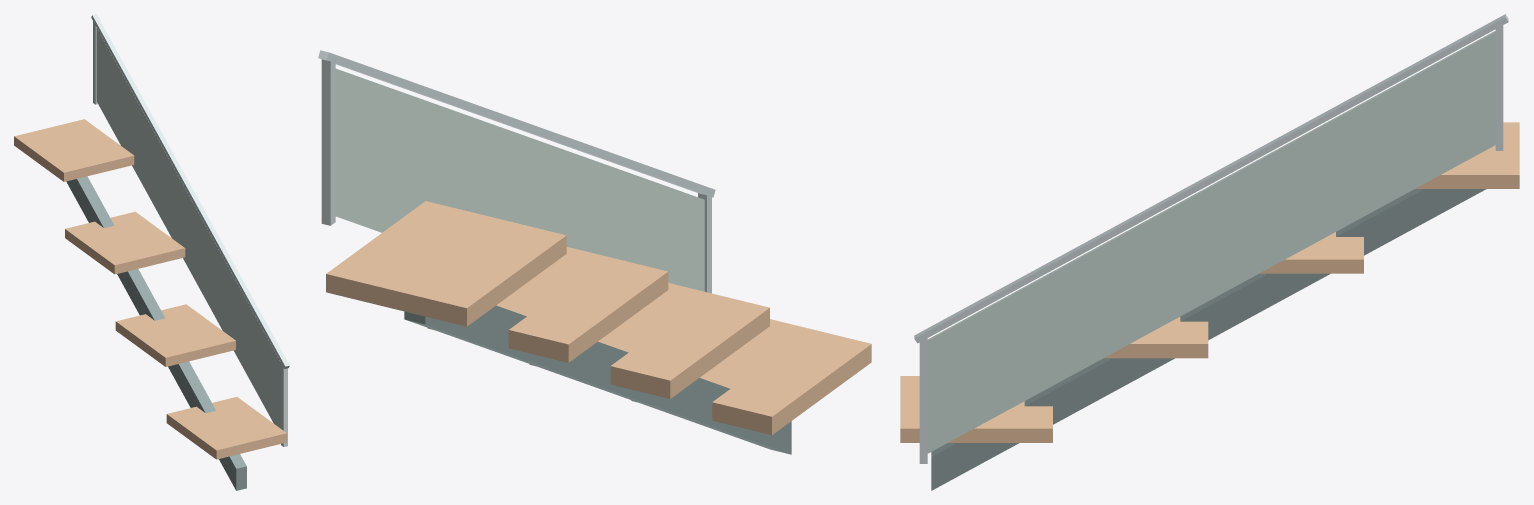
Rendered from stairFloating.glb.
The picture shows the model from 3 angles, left to right: view 1: azimuth 30°, elevation 25°; view 2: azimuth 150°, elevation 25°; view 3: azimuth 270°, elevation 25°; orthographic projection. The views are drawn at different scales.
Parts seen in each view (by area): view 1: stairFloating; view 2: stairFloating; view 3: stairFloating.
Part boxes in pixels (x1=…): stairFloating: x1=14, y1=14, x2=289, y2=490; stairFloating: x1=318, y1=50, x2=871, y2=454; stairFloating: x1=900, y1=14, x2=1519, y2=490.
Size of the model in its own units: 0.4425 by 1.78 by 1.99.
